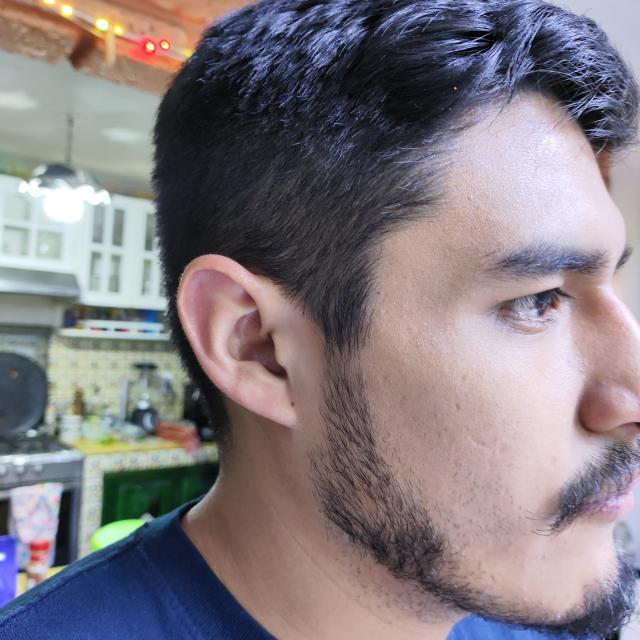ear: (178, 255, 315, 428)
